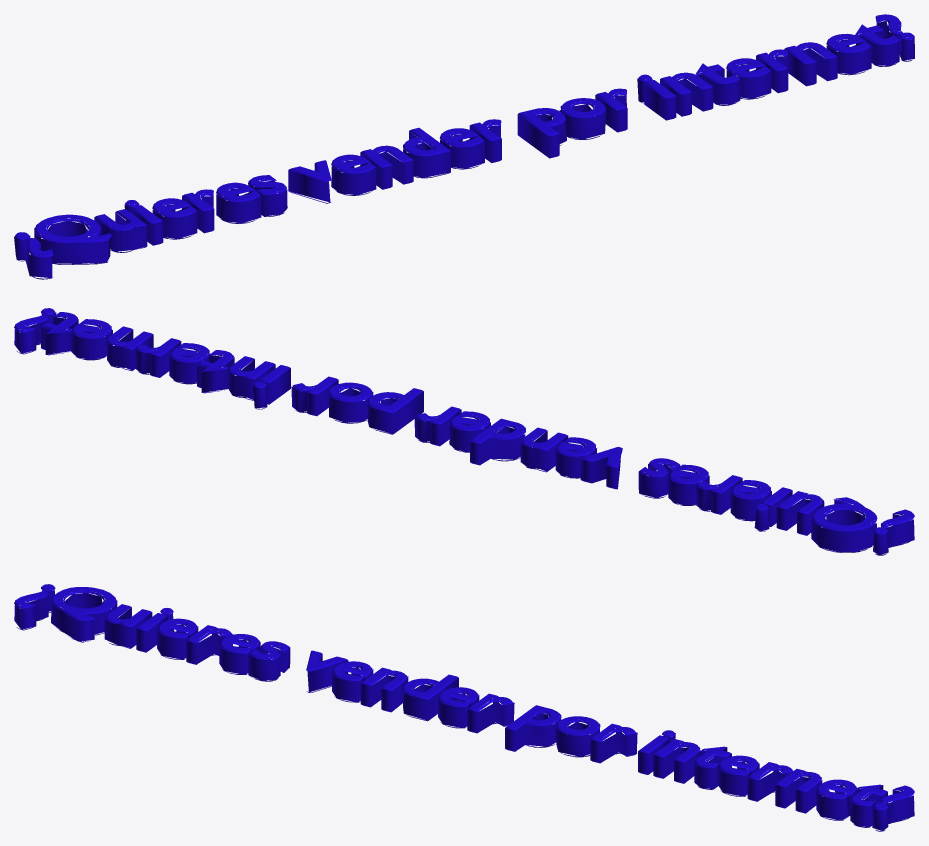
The model's file is ques.glb.
3 renders of one model, top to bottom at view 1: azimuth 30°, elevation 25°; view 2: azimuth 150°, elevation 25°; view 3: azimuth 330°, elevation 25°, orthographic. The views are drawn at different scales.
Visible parts, largest first — view 1: Text.002; view 2: Text.002; view 3: Text.002.
Boxes of the visible parts, x1,y1,x2,y2 form: Text.002: (14,14,914,279); Text.002: (14,308,914,555); Text.002: (14,584,914,831).
Size of the model in its own units: 6.14 by 0.1707 by 0.4979.
